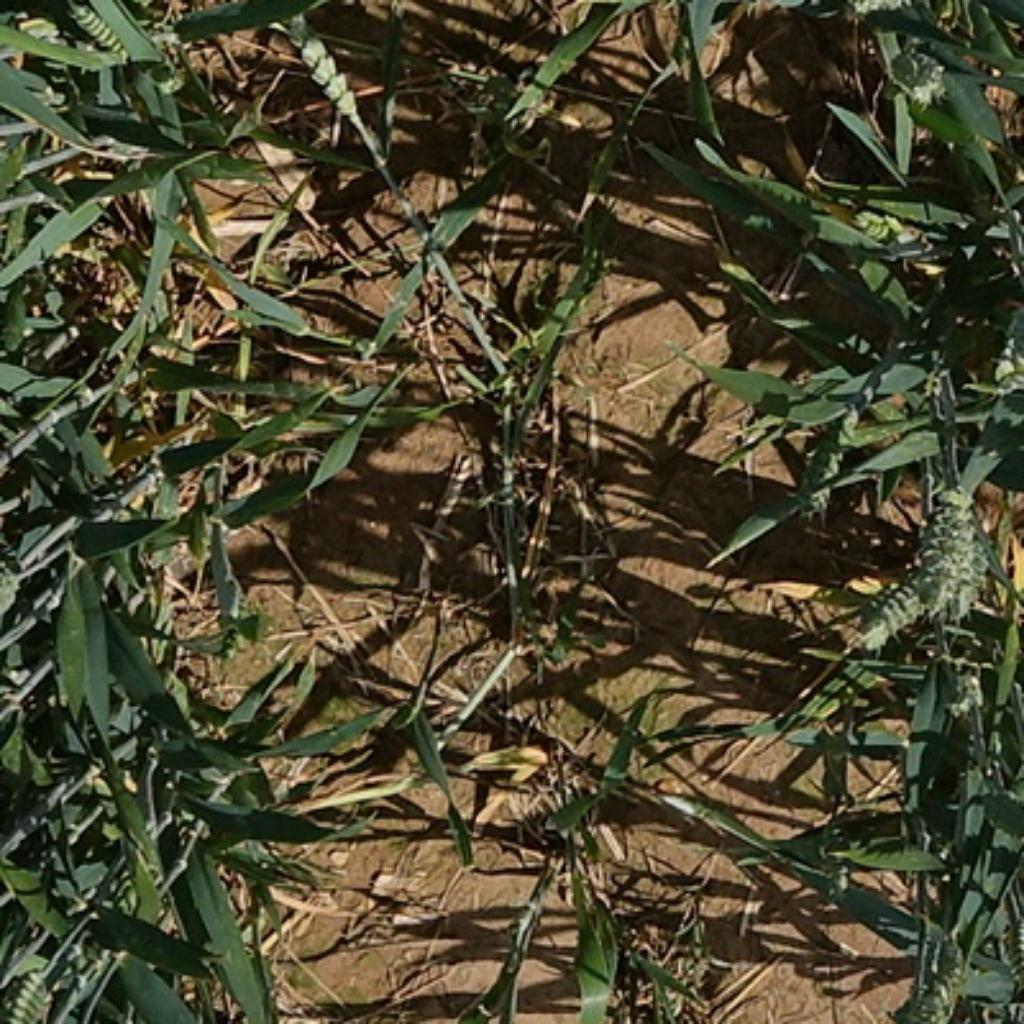0-0: (273, 0, 370, 127), (832, 558, 960, 647), (804, 380, 870, 531), (929, 481, 972, 627), (880, 35, 949, 122), (844, 202, 921, 279), (58, 0, 135, 76), (921, 924, 972, 1024), (984, 303, 1024, 400), (0, 963, 61, 1024), (993, 893, 1024, 1008)
